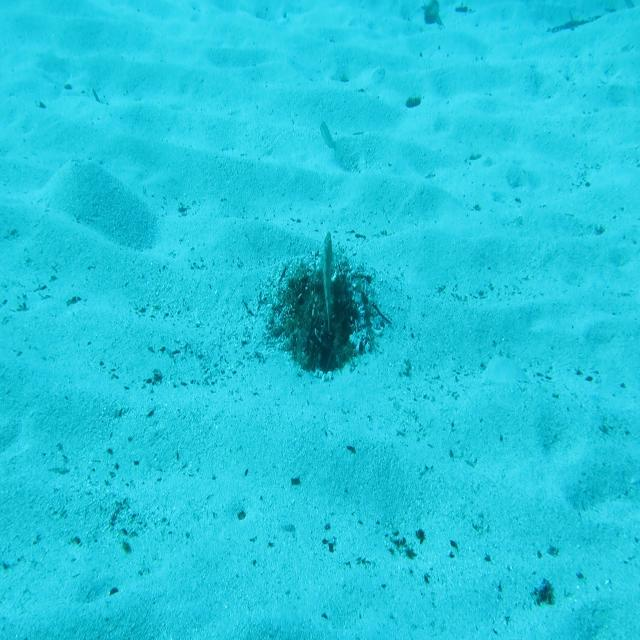H_UP: (316, 228, 342, 341)
female: (318, 118, 339, 155)
nest: (274, 253, 378, 375)
